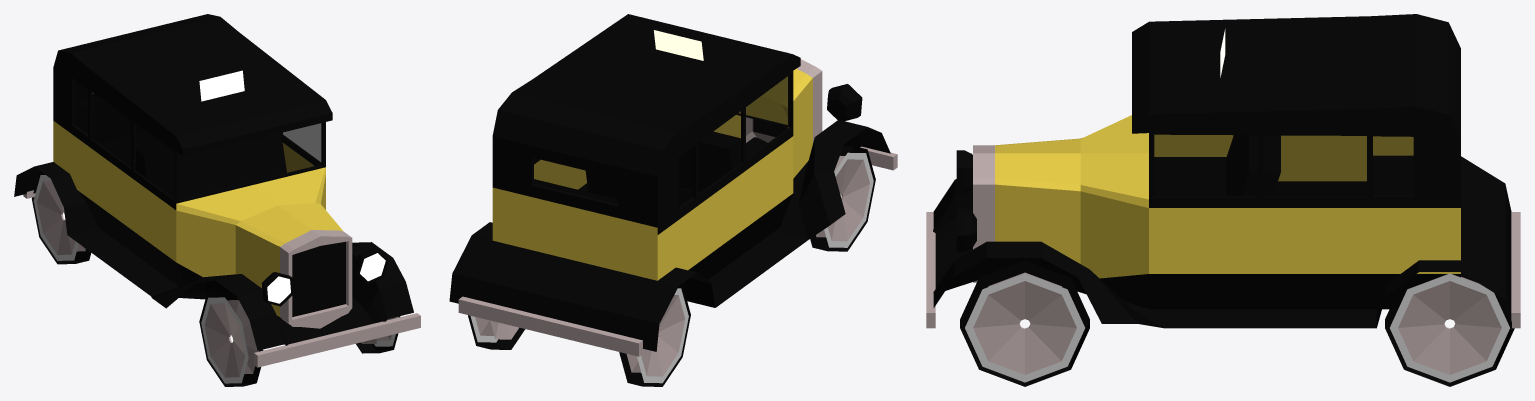
Rendered from std_car03.glb.
The picture shows the model from 3 angles, left to right: view 1: azimuth 30°, elevation 25°; view 2: azimuth 150°, elevation 25°; view 3: azimuth 270°, elevation 25°; orthographic projection. The views are drawn at different scales.
Parts seen in each view (by area): view 1: body, wheel 2, wheel 4, wheel 1; view 2: body, wheel 2, wheel 4, wheel 3; view 3: body, wheel 1, wheel 3.
Boxes of the visible parts, box(x1,y1,x2,y2) form: body: box(14, 14, 420, 367); wheel 2: box(199, 290, 263, 386); wheel 4: box(32, 171, 91, 264); wheel 1: box(356, 316, 400, 353); body: box(449, 14, 897, 356); wheel 2: box(810, 145, 875, 251); wheel 4: box(619, 284, 690, 386); wheel 3: box(468, 315, 525, 349); body: box(926, 14, 1520, 328); wheel 1: box(960, 260, 1089, 386); wheel 3: box(1385, 272, 1514, 386).
Bounding box in the file's own units: 261 × 284 × 513.
